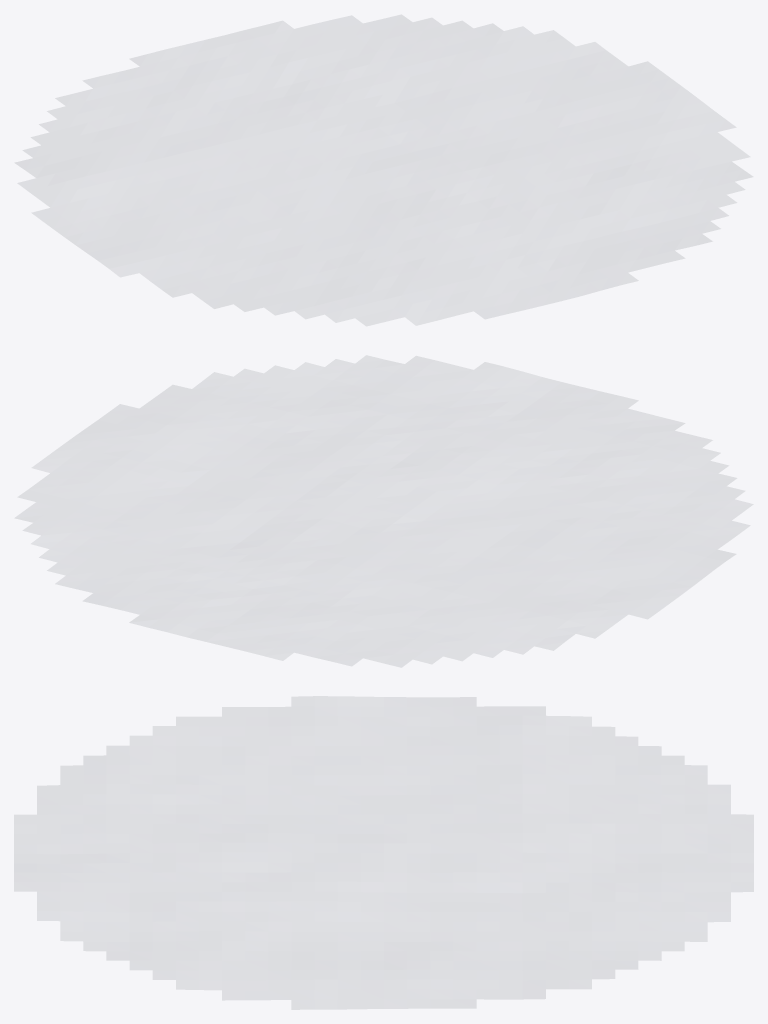
Rendered from IslandFrost.obj.
3 views of the same model, one above another, from view 1: azimuth 30°, elevation 25°; view 2: azimuth 150°, elevation 25°; view 3: azimuth 270°, elevation 25° (orthographic). The views are drawn at different scales.
Visible parts, largest first — view 1: IslandFrost; view 2: IslandFrost; view 3: IslandFrost.
Boxes of the visible parts, x1,y1,x2,y2 form: IslandFrost: [14, 14, 753, 326]; IslandFrost: [14, 355, 753, 667]; IslandFrost: [14, 696, 753, 1009].
Size of the model in its own units: 24.8 by 0.0809 by 24.8.
1 material, 1 textured.
